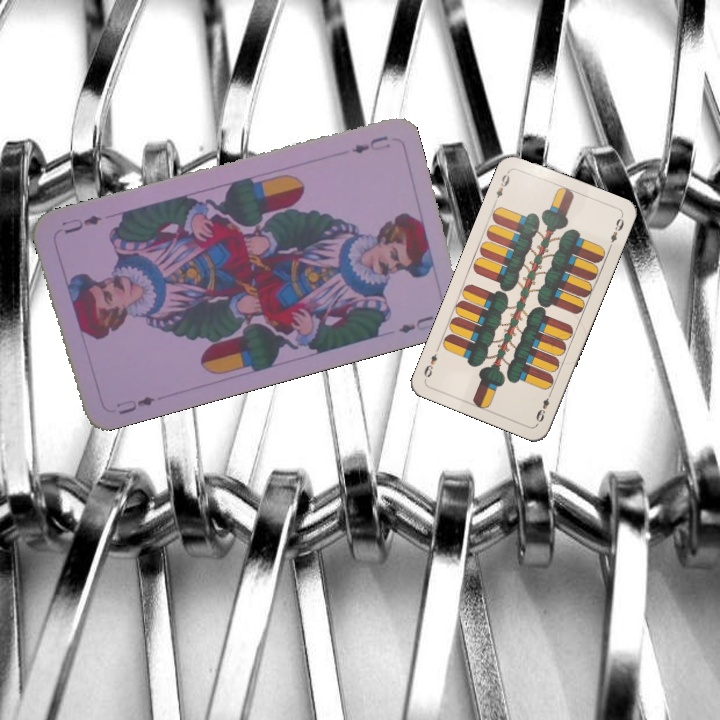E9: (490, 167, 512, 206), (532, 387, 554, 425)
EU: (112, 392, 158, 418), (347, 131, 393, 156)
